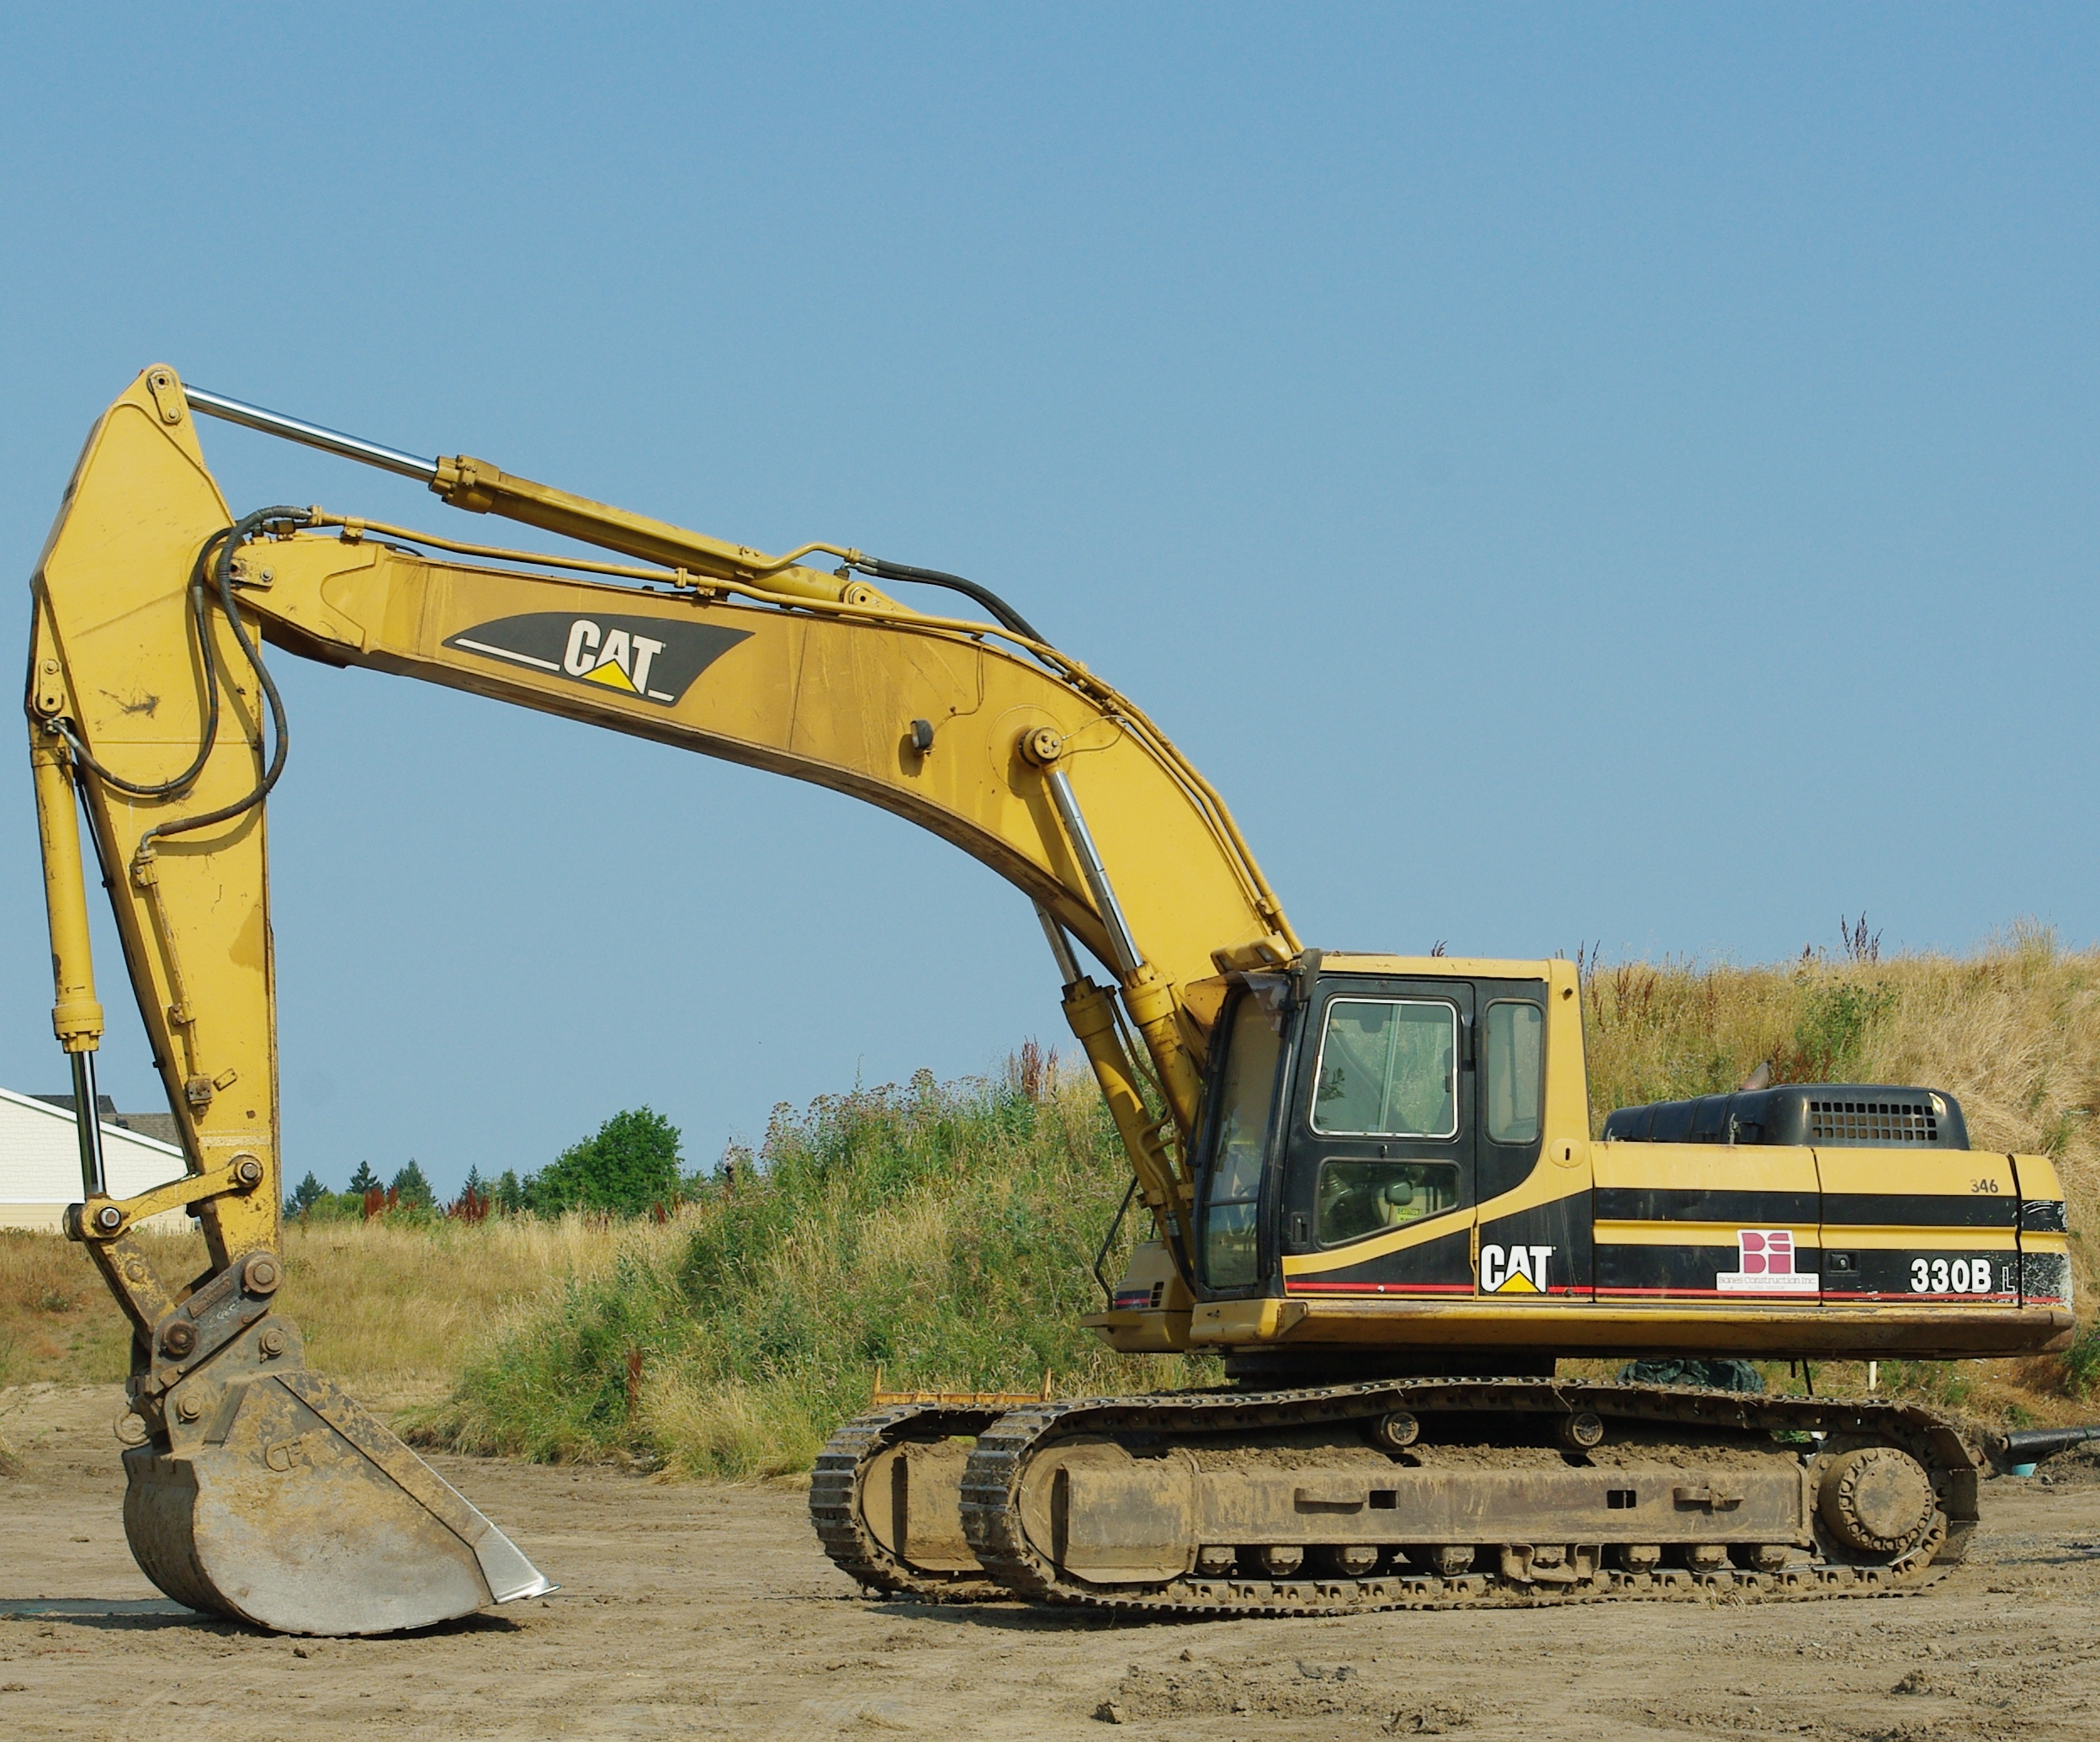excavator: (21, 337, 2067, 1665)
